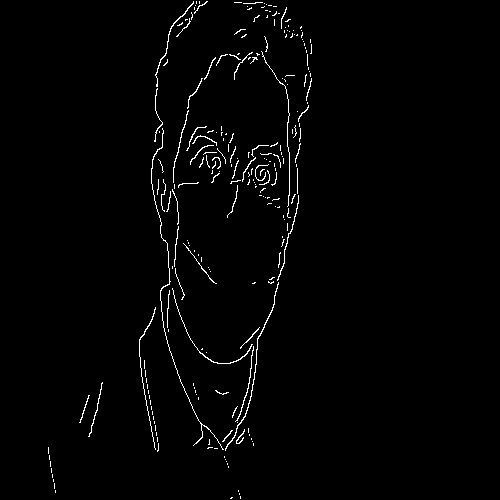mask: (167, 180, 307, 376)
